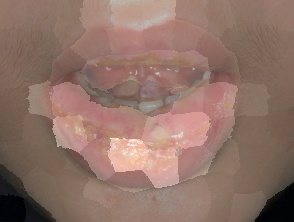SJS-TEN: (51, 86, 247, 179), (63, 54, 217, 78)
